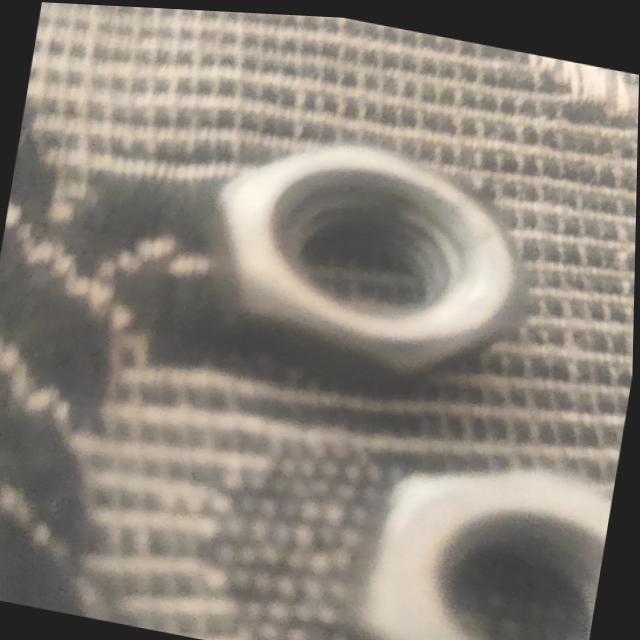disinfected nut: (220, 141, 518, 366), (359, 465, 614, 640)
